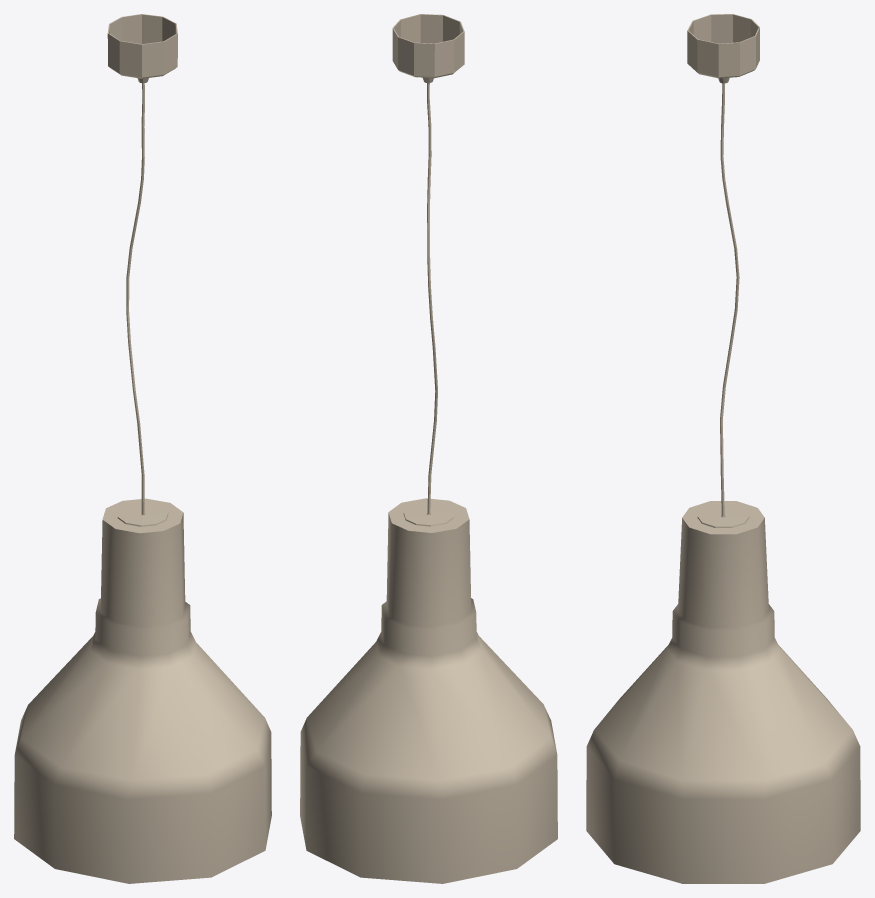
File: lamp_35_L.fbx
The picture shows the model from 3 angles, left to right: view 1: azimuth 30°, elevation 25°; view 2: azimuth 150°, elevation 25°; view 3: azimuth 270°, elevation 25°; orthographic projection.
Visible parts, largest first — view 1: lamp_35_L; view 2: lamp_35_L; view 3: lamp_35_L.
Boxes of the visible parts, x1,y1,x2,y2 form: lamp_35_L: [14, 14, 271, 883]; lamp_35_L: [300, 14, 557, 883]; lamp_35_L: [586, 14, 860, 883].
Size of the model in its own units: 5.75 by 20.24 by 6.27.
